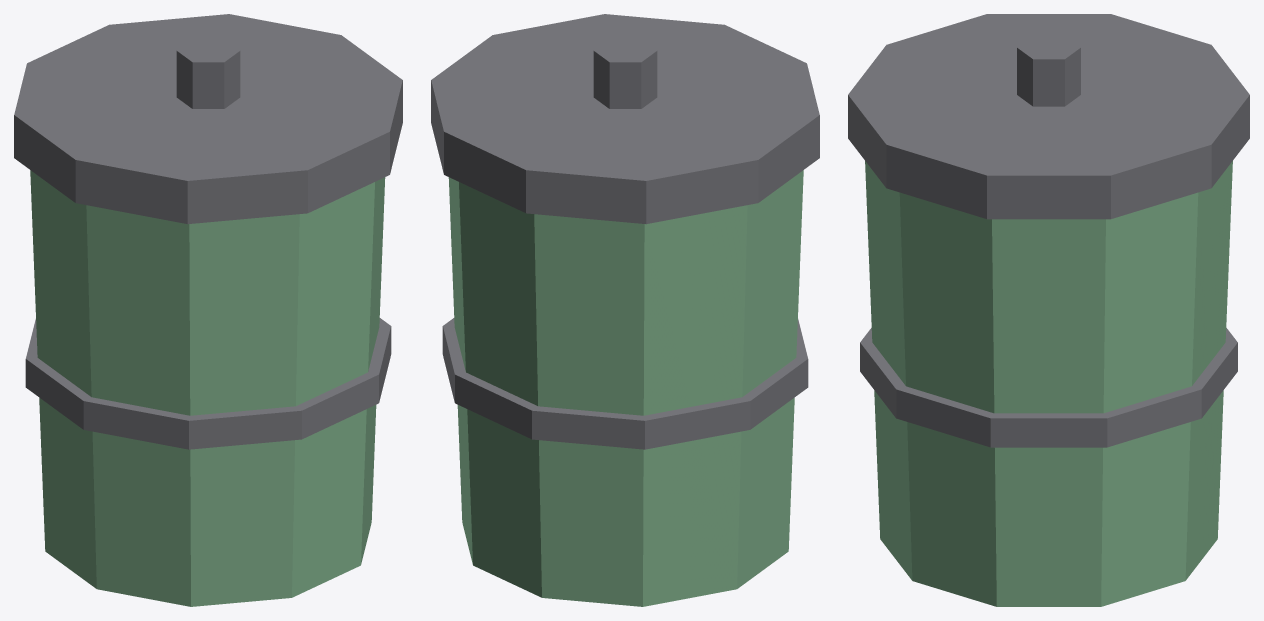
File: trashcan.glb
3 renders of one model, left to right at view 1: azimuth 30°, elevation 25°; view 2: azimuth 150°, elevation 25°; view 3: azimuth 270°, elevation 25°, orthographic.
Parts seen in each view (by area): view 1: trashcan; view 2: trashcan; view 3: trashcan.
Boxes of the visible parts, left/top/right/bottom form: trashcan: left=14, top=14, right=402, bottom=606; trashcan: left=431, top=14, right=819, bottom=606; trashcan: left=848, top=14, right=1249, bottom=606.
Size of the model in its own units: 0.9511 by 1.35 by 1.
